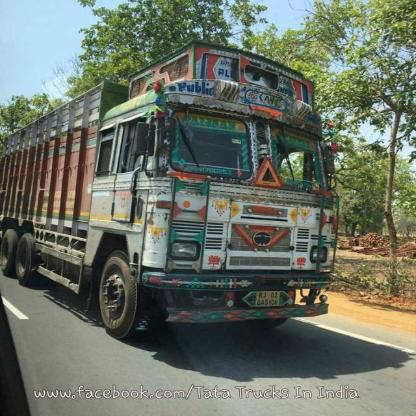truck: (6, 42, 344, 336)
